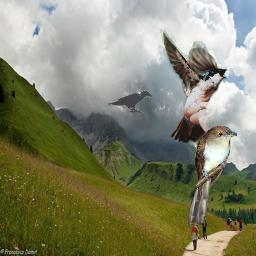Crow: (107, 90, 152, 113)
Cuckoo: (188, 125, 237, 226)
Swallow: (159, 28, 228, 143)
